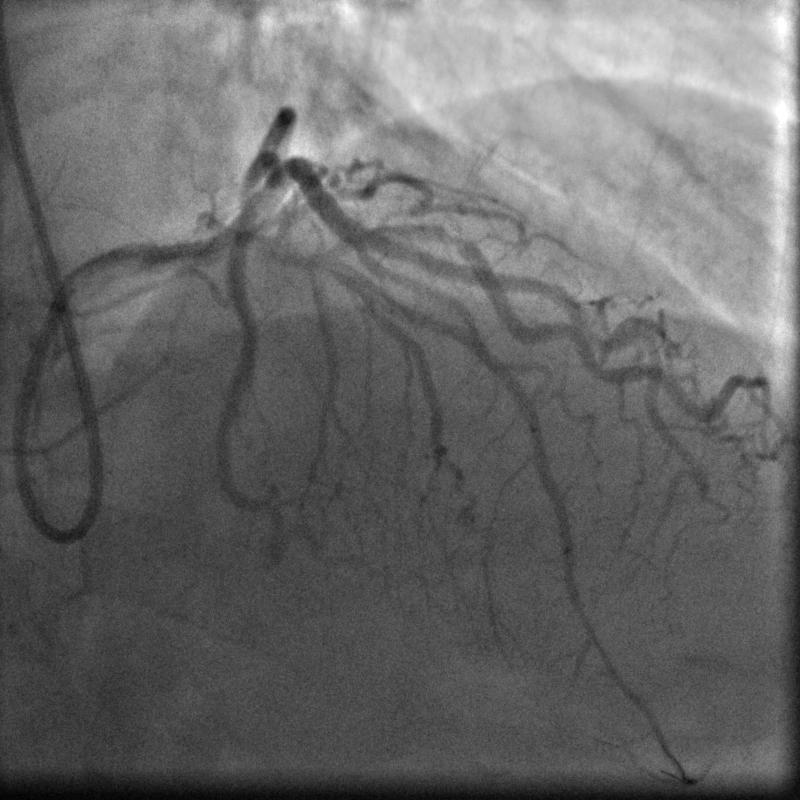Stenosis: (427, 218, 479, 258)
